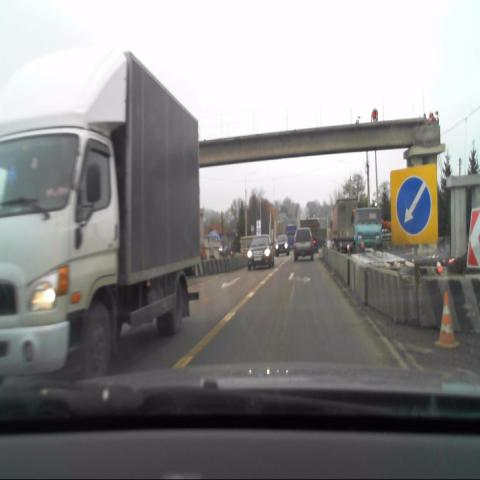4_2_2: (392, 171, 437, 243)
